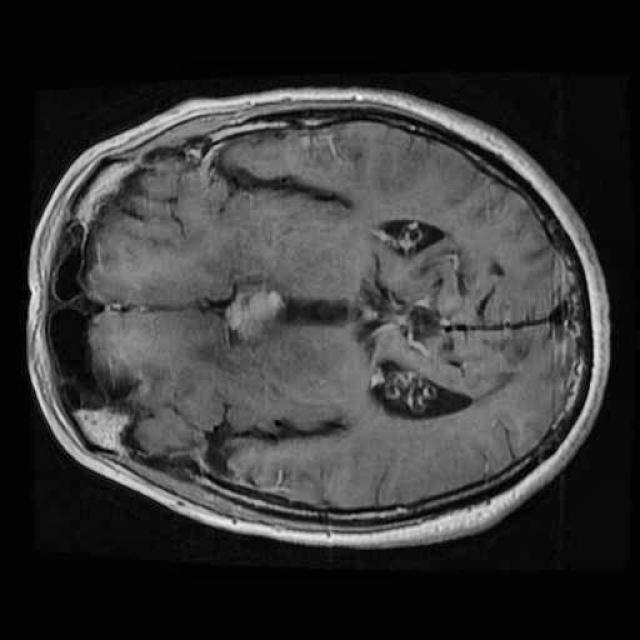Tumor: (214, 271, 304, 355)
